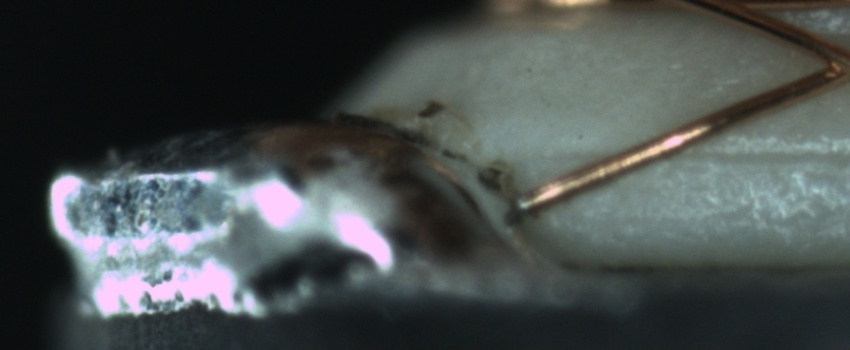CL: (798, 31, 849, 91)
DL: (547, 126, 850, 184)
